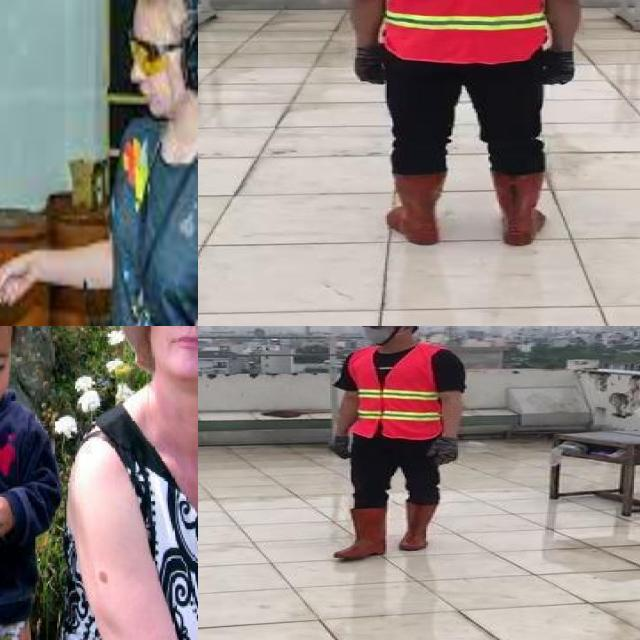Ear-protection: (117, 0, 198, 131)
boots: (487, 169, 554, 248), (386, 170, 448, 247), (334, 506, 391, 559), (399, 502, 437, 550)
face_mask: (359, 326, 396, 343)
face_nomask: (147, 326, 198, 359)
glasses: (355, 326, 389, 331)
hand_glove: (349, 47, 391, 84), (542, 52, 577, 87), (426, 437, 460, 466), (325, 434, 353, 459)
hand_noglove: (0, 493, 18, 547)
person: (326, 0, 598, 255), (65, 326, 198, 640), (319, 326, 472, 565), (0, 326, 55, 640)
vest: (376, 0, 554, 60), (348, 345, 444, 438)
